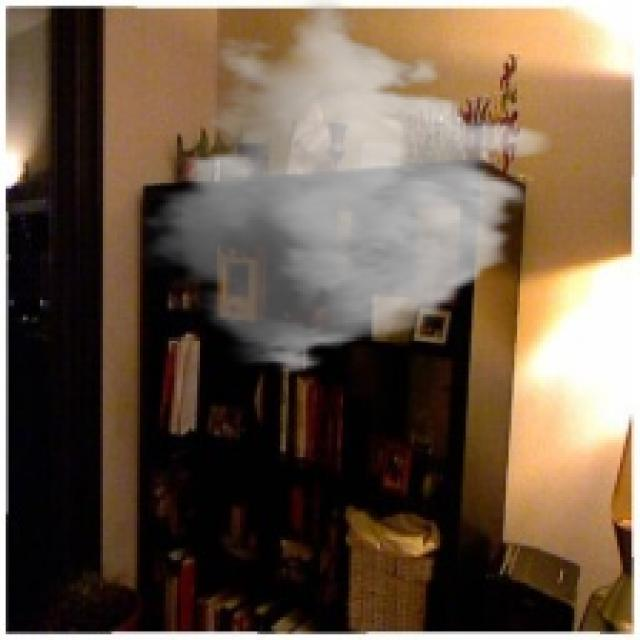smoke: (135, 0, 554, 377)
